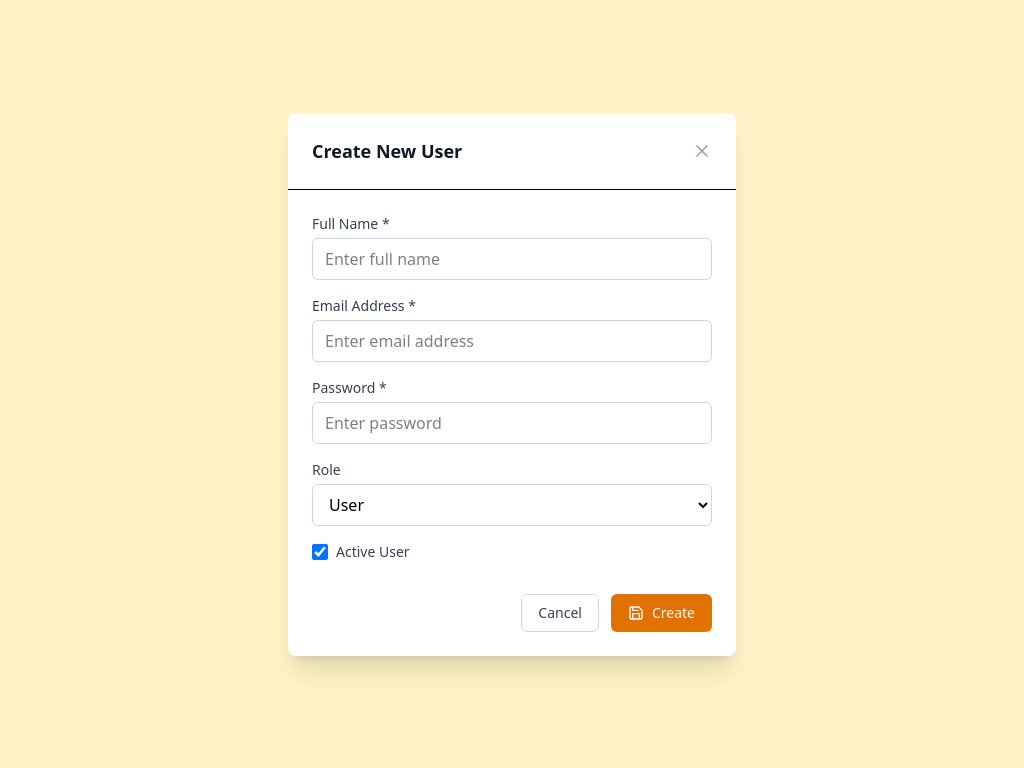
UserForm Component › clears error when user starts typing in field
This screenshot has width=1024, height=768.
Click the button "Create": point(661, 612) [611,594,712,632]
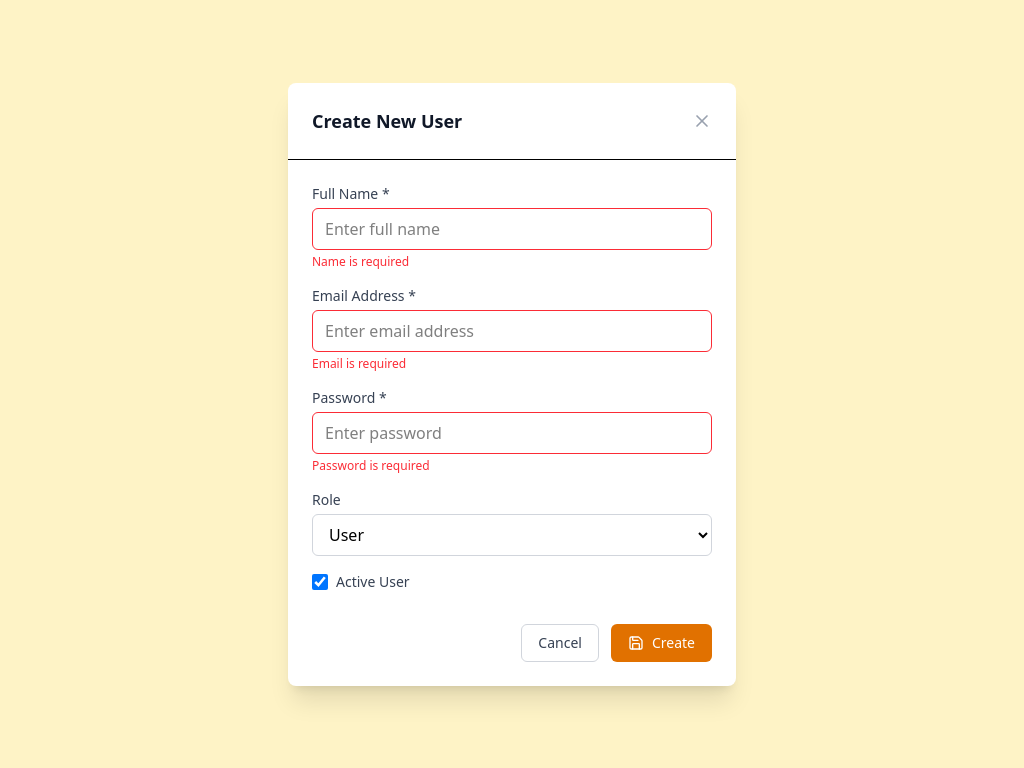
Expected: the text "Name is required" is shown, [312,252,409,270]
In the field with placeholder "Enter full name": point(512, 228) [312,208,712,250], type "Test"
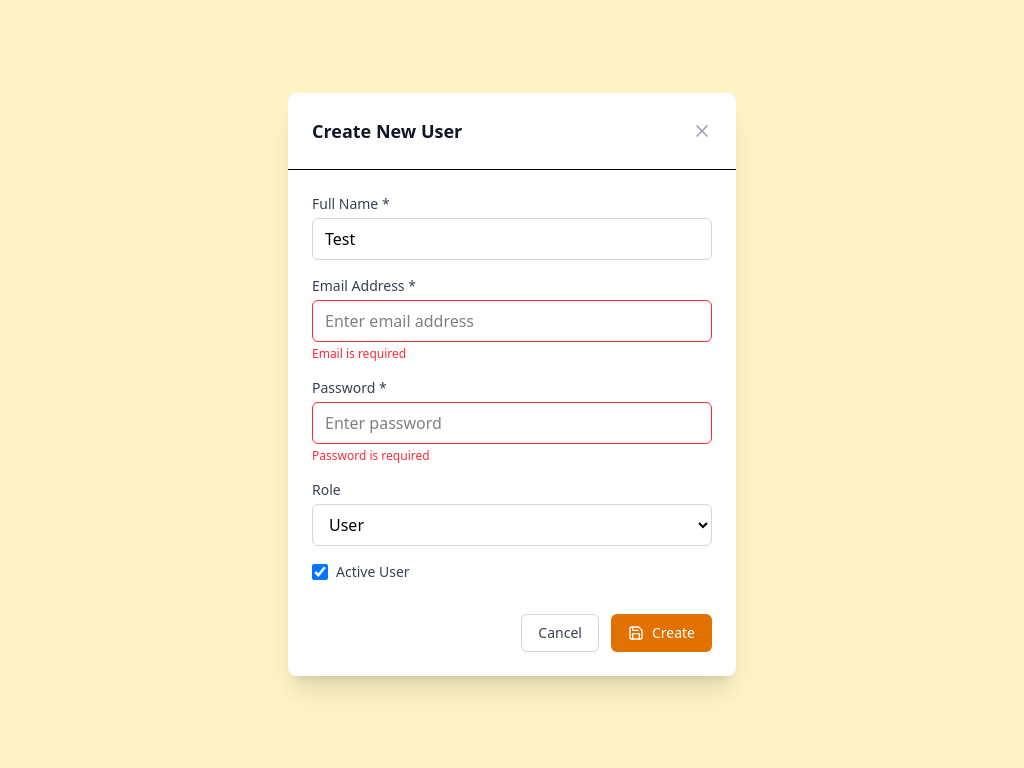
Expected: the text "Name is required" is gone
